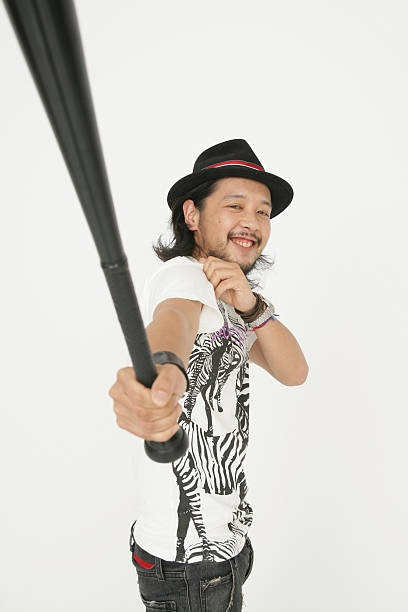bita: (1, 10, 180, 447)
